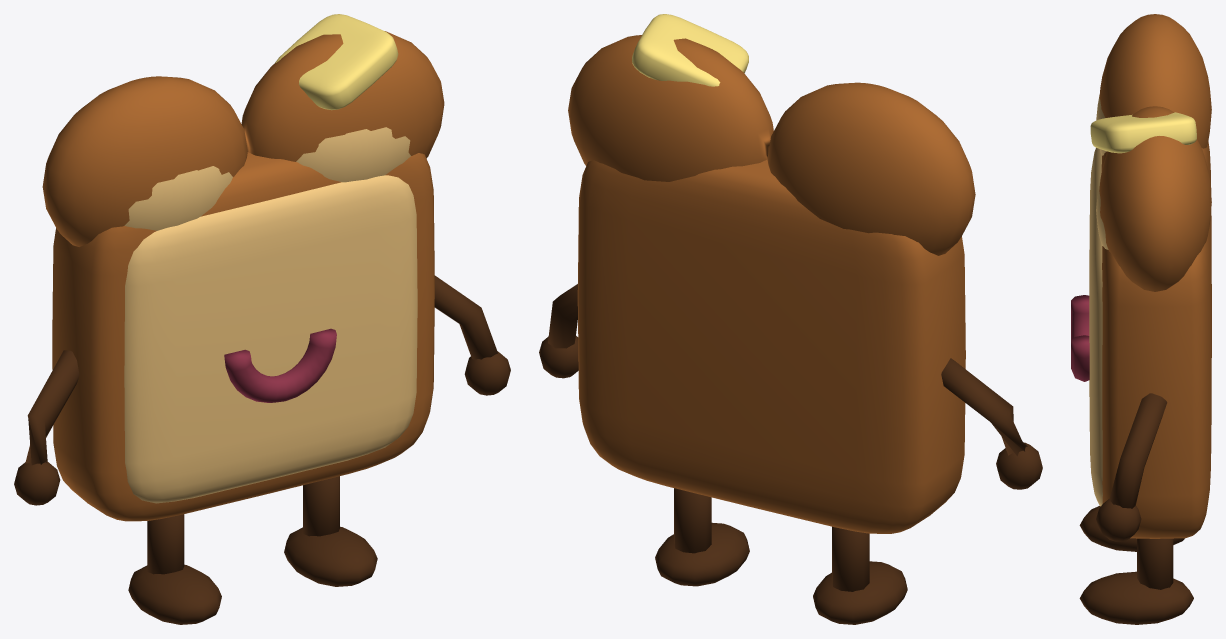
The model's file is G03_Toastie.fbx.
3 views of the same model, side by side, from view 1: azimuth 30°, elevation 25°; view 2: azimuth 150°, elevation 25°; view 3: azimuth 270°, elevation 25° (orthographic). The views are drawn at different scales.
Visible parts, largest first — view 1: G03_Toastie__Bread, G03_Toastie__Crust, G03_Toastie__Dark, G03_Toastie__Butter, G03_Toastie__Mouth; view 2: G03_Toastie__Crust, G03_Toastie__Dark, G03_Toastie__Butter; view 3: G03_Toastie__Crust, G03_Toastie__Dark, G03_Toastie__Bread, G03_Toastie__Butter, G03_Toastie__Mouth.
Boxes of the visible parts, box(x1,y1,x2,y2) form: G03_Toastie__Bread: box(124, 127, 417, 503); G03_Toastie__Crust: box(42, 31, 444, 521); G03_Toastie__Dark: box(14, 275, 510, 624); G03_Toastie__Butter: box(274, 14, 398, 110); G03_Toastie__Mouth: box(224, 328, 336, 402); G03_Toastie__Crust: box(568, 35, 975, 533); G03_Toastie__Dark: box(539, 284, 1042, 624); G03_Toastie__Butter: box(632, 14, 748, 86); G03_Toastie__Crust: box(1099, 14, 1211, 538); G03_Toastie__Dark: box(1079, 393, 1193, 624); G03_Toastie__Bread: box(1089, 95, 1108, 506); G03_Toastie__Butter: box(1090, 112, 1196, 153); G03_Toastie__Mouth: box(1071, 295, 1089, 381).
Size of the model in its own units: 2.39 by 2.5 by 0.62.
